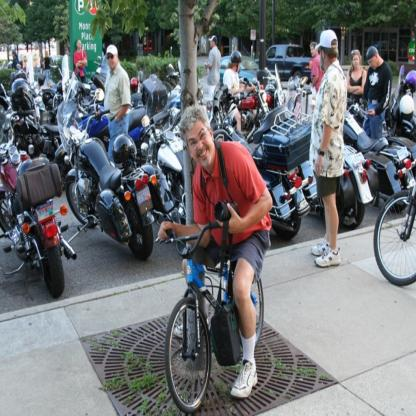Car: (374, 38, 399, 65)
